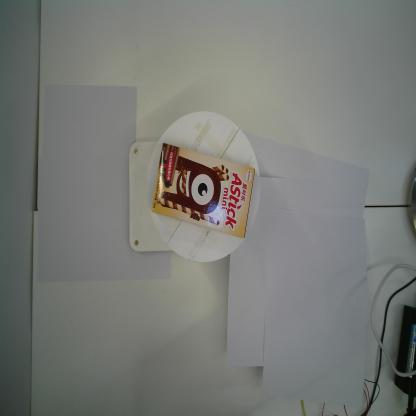Dessert: (151, 142, 255, 239)
